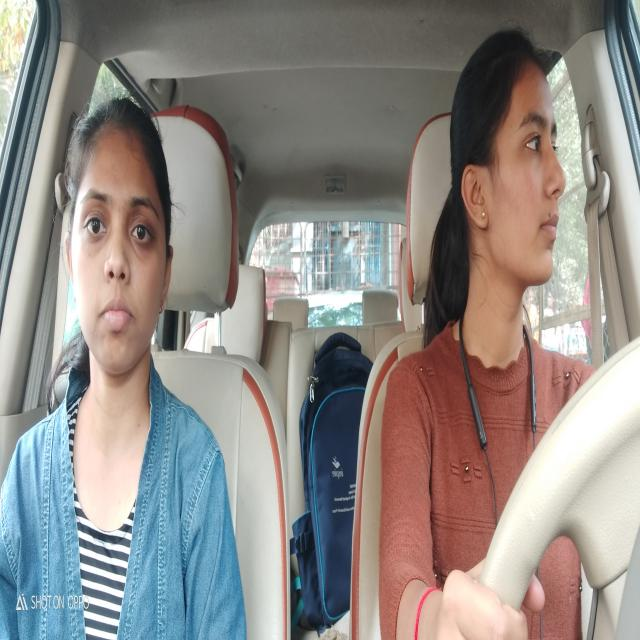LeftRight: (443, 19, 581, 341)
person: (48, 78, 183, 428)
